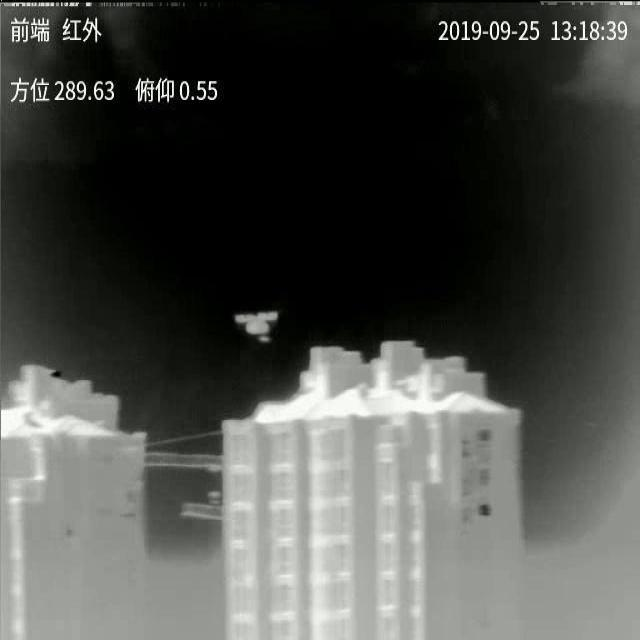drone: (234, 311, 278, 343)
